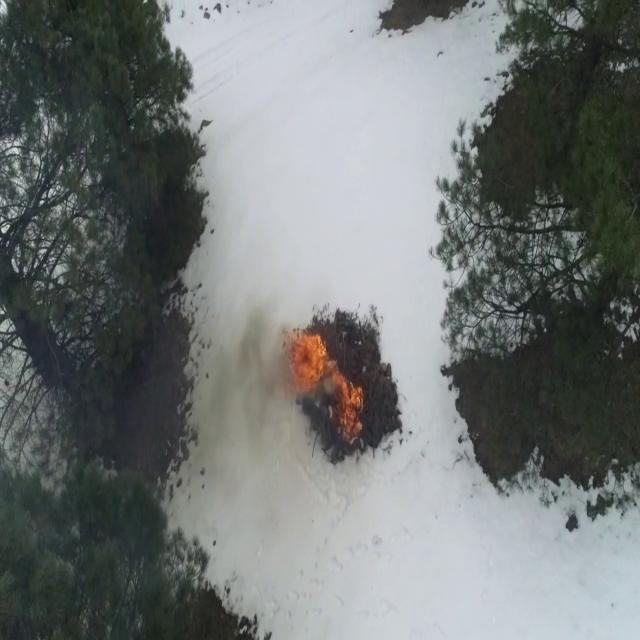fire: (282, 328, 326, 388), (330, 368, 365, 439)
